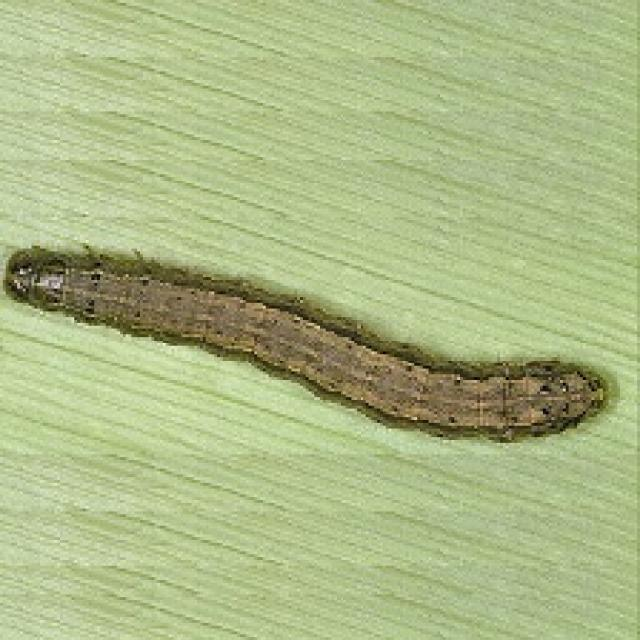worm: (1, 236, 619, 459)
